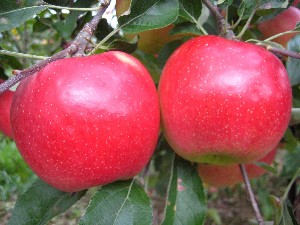apple: (8, 48, 162, 195), (157, 32, 294, 167)
